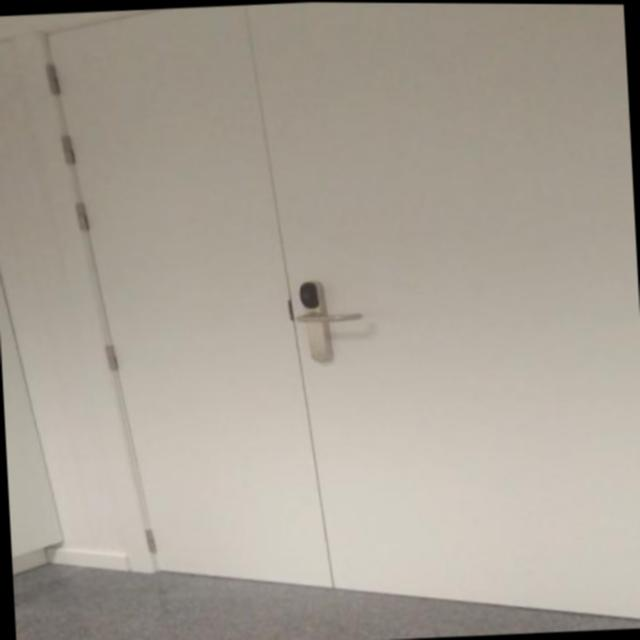door_handle: (288, 306, 368, 325)
